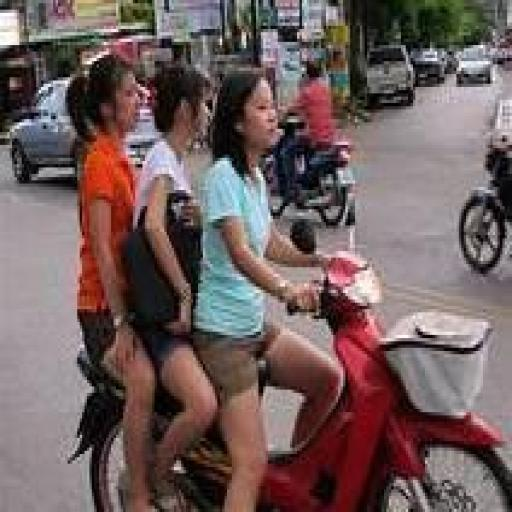no helmet: (224, 64, 294, 177)
triple riding: (63, 38, 512, 512)
